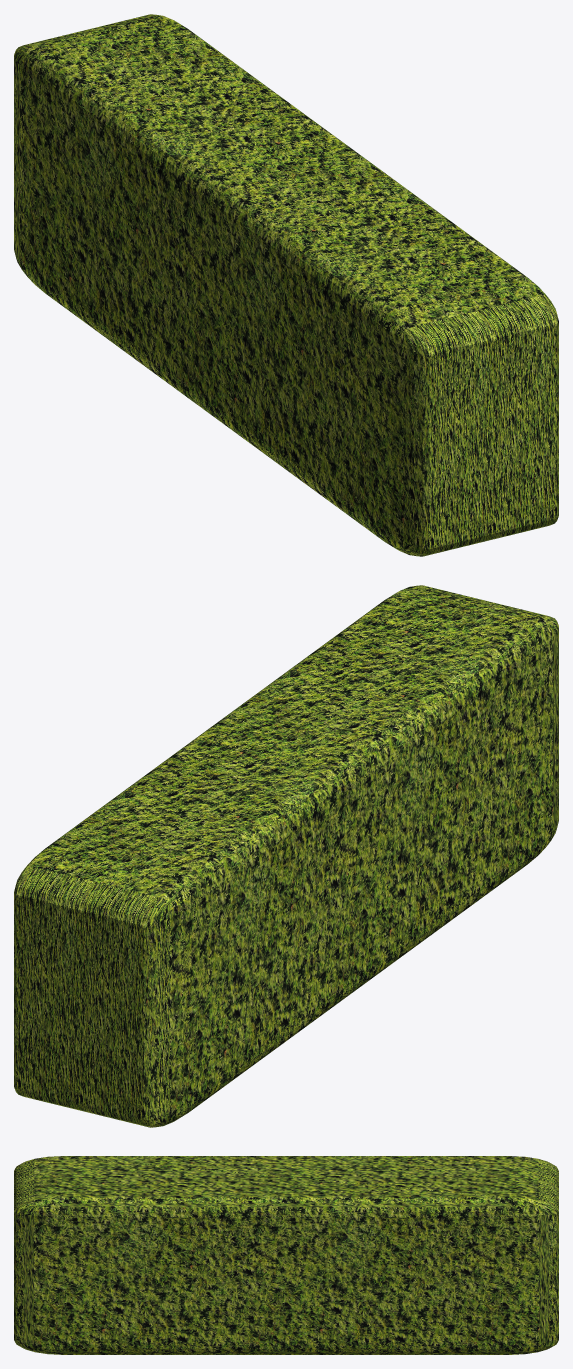
The model's file is Seto.fbx.
The picture shows the model from 3 angles, top to bottom: view 1: azimuth 30°, elevation 25°; view 2: azimuth 150°, elevation 25°; view 3: azimuth 270°, elevation 25°; orthographic projection. The views are drawn at different scales.
Parts seen in each view (by area): view 1: Cubo; view 2: Cubo; view 3: Cubo.
Boxes of the visible parts, x1,y1,x2,y2 form: Cubo: (14, 14, 558, 556); Cubo: (14, 585, 558, 1127); Cubo: (14, 1156, 558, 1354).
Size of the model in its own units: 419 by 613 by 1934.
